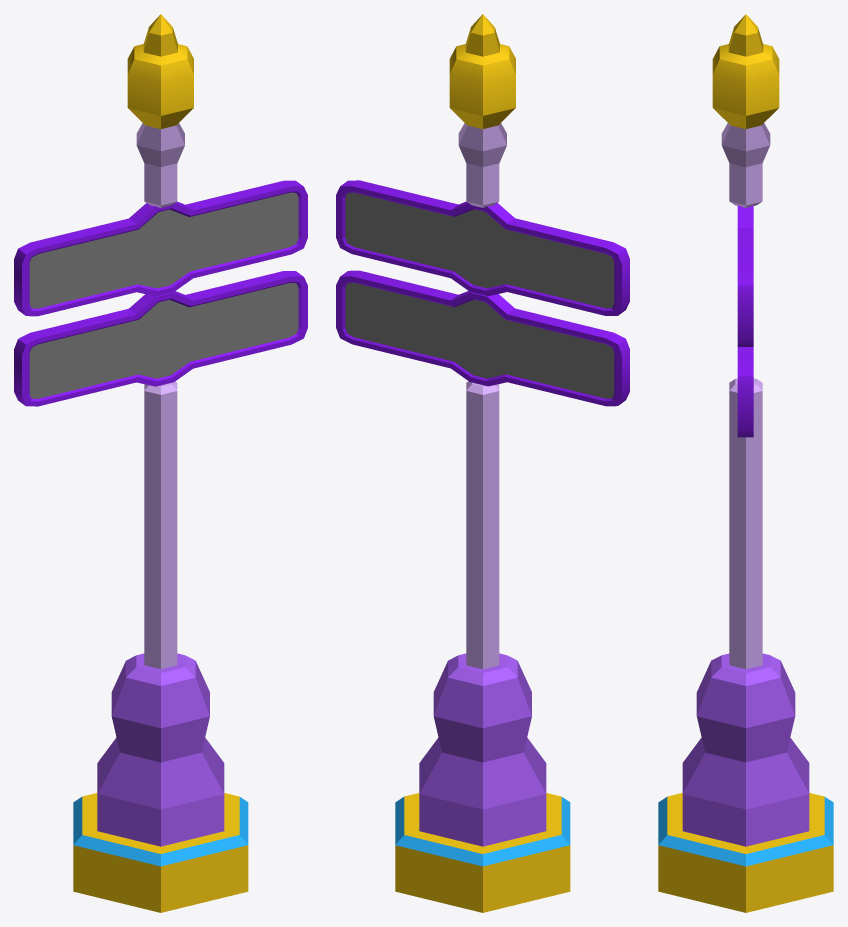
File: RoadSign.fbx
The picture shows the model from 3 angles, left to right: view 1: azimuth 30°, elevation 25°; view 2: azimuth 150°, elevation 25°; view 3: azimuth 270°, elevation 25°; orthographic projection.
Parts seen in each view (by area): view 1: SignBase, Sign2, Sign1; view 2: SignBase, Sign2, Sign1; view 3: SignBase, Sign1, Sign2.
Part boxes in pixels (left/top/right/bottom): SignBase: left=73, top=14, right=248, bottom=912; Sign2: left=14, top=271, right=307, bottom=406; Sign1: left=14, top=180, right=307, bottom=316; SignBase: left=395, top=14, right=570, bottom=912; Sign2: left=336, top=270, right=629, bottom=406; Sign1: left=336, top=180, right=629, bottom=315; SignBase: left=658, top=14, right=833, bottom=912; Sign1: left=737, top=205, right=753, bottom=346; Sign2: left=737, top=347, right=753, bottom=437.
Bounding box in the file's own units: 74.57 × 213 × 39.54.
